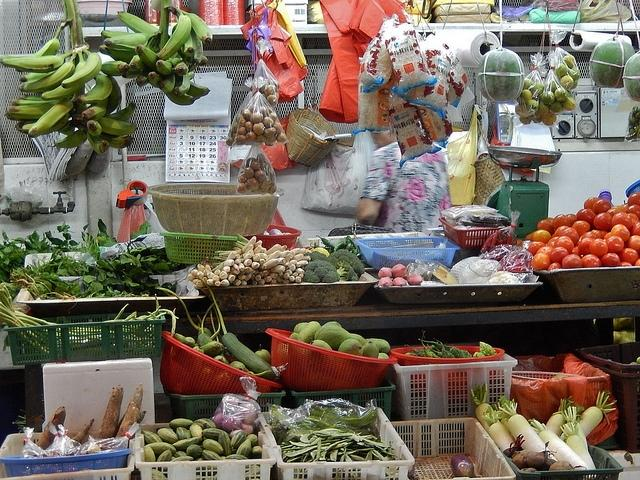banana: (15, 18, 73, 72), (18, 52, 78, 93), (158, 8, 192, 60), (2, 49, 74, 73), (28, 100, 73, 138), (61, 48, 102, 89), (76, 73, 112, 106), (20, 111, 70, 134), (180, 10, 213, 44), (5, 100, 60, 120), (104, 31, 158, 51), (117, 11, 159, 34), (82, 127, 109, 155), (99, 45, 138, 64), (98, 117, 138, 135), (42, 84, 84, 101), (80, 98, 109, 121), (190, 30, 208, 66), (135, 44, 158, 69), (57, 129, 87, 148), (101, 132, 133, 149), (187, 82, 211, 98), (11, 98, 57, 106), (174, 74, 190, 96), (82, 120, 102, 136), (156, 60, 173, 76), (130, 55, 146, 72), (148, 72, 164, 88)
broccoli: (328, 248, 364, 275), (304, 259, 341, 283), (336, 261, 358, 281), (304, 250, 328, 262)
cucumber: (222, 332, 276, 382), (198, 333, 224, 356), (198, 328, 215, 340), (180, 337, 196, 348)
tomato: (588, 238, 608, 258), (554, 236, 574, 256), (617, 248, 639, 266), (593, 212, 613, 231), (531, 253, 551, 271), (560, 228, 580, 246), (611, 224, 630, 242), (578, 208, 596, 227), (612, 213, 632, 230), (550, 246, 568, 264), (572, 220, 590, 238), (592, 198, 612, 214), (562, 254, 583, 269), (606, 235, 624, 252), (578, 238, 594, 256), (532, 230, 552, 244), (600, 253, 620, 267), (538, 219, 554, 236), (626, 235, 640, 253), (527, 242, 545, 256), (582, 254, 601, 267), (626, 204, 640, 220), (584, 197, 601, 209), (592, 229, 609, 240), (606, 208, 624, 218), (581, 231, 601, 240), (628, 192, 640, 206), (566, 214, 578, 228), (546, 236, 559, 248), (536, 246, 552, 255), (630, 223, 640, 237), (548, 262, 562, 270)
